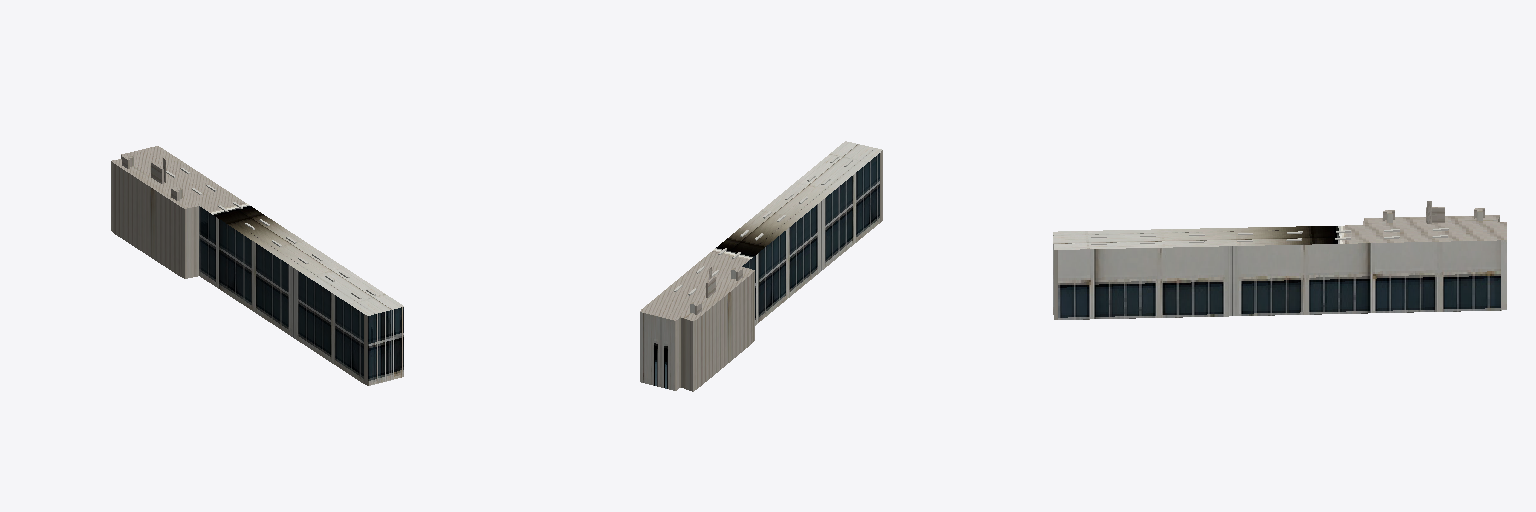
3 views of the same model, side by side, from view 1: azimuth 30°, elevation 25°; view 2: azimuth 150°, elevation 25°; view 3: azimuth 270°, elevation 25° (orthographic).
Parts seen in each view (by area): view 1: 3d-model.001; view 2: 3d-model.001; view 3: 3d-model.001.
Part boxes in pixels (x1,y1,x2,y2): 3d-model.001: (111, 146, 403, 385); 3d-model.001: (640, 141, 882, 391); 3d-model.001: (1053, 201, 1506, 319).
Size of the model in its own units: 23.82 by 29.85 by 131.
1 materials, 1 textured.